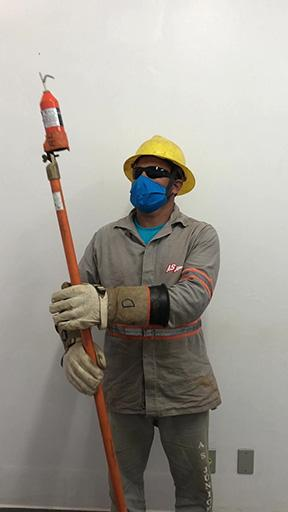Detector_Tensao_Contato: (35, 70, 71, 157)
Vara_Manobra: (37, 154, 123, 512)
